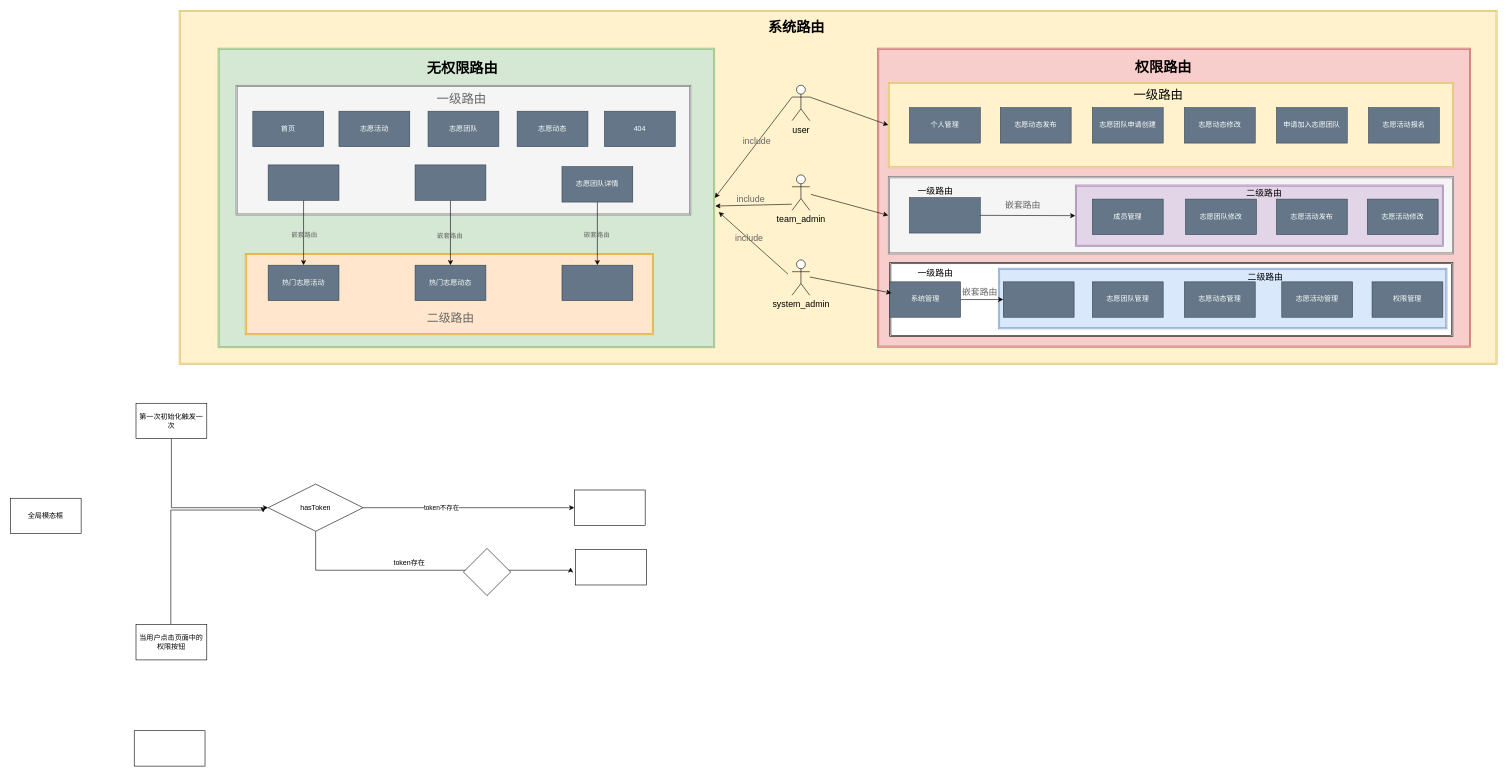
The diagram is 1507 pixels wide and 776 high, and some of its shapes have lost their labels. Each missing label, with the centre of its shape:
"token是否有效" goes at pixel 487 572.
"团队管理" goes at pixel 944 215.
"志愿动态详情" goes at pixel 450 182.
"志愿活动详情" goes at pixel 303 182.
"显示" goes at pixel 609 507.
"热门志愿团队" goes at pixel 597 283.
"用户管理" goes at pixel 1038 299.
"隐藏" goes at pixel 610 567.
